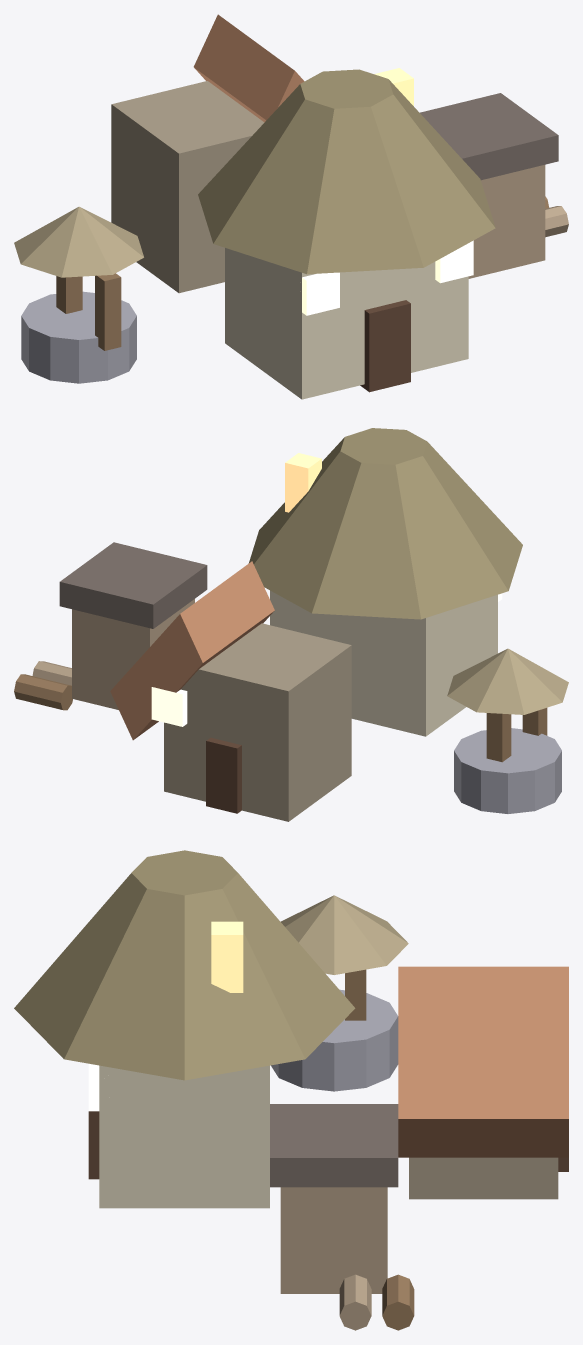
The model's file is city-hamlet-0.glb.
The picture shows the model from 3 angles, top to bottom: view 1: azimuth 30°, elevation 25°; view 2: azimuth 150°, elevation 25°; view 3: azimuth 270°, elevation 25°; orthographic projection. The views are drawn at different scales.
Visible parts, largest first — view 1: city-hamlet-0; view 2: city-hamlet-0; view 3: city-hamlet-0.
Boxes of the visible parts, bbox=[...] form: city-hamlet-0: bbox=[14, 14, 568, 399]; city-hamlet-0: bbox=[14, 428, 568, 821]; city-hamlet-0: bbox=[14, 850, 568, 1330].
Size of the model in its own units: 0.66 by 0.31 by 0.52.
